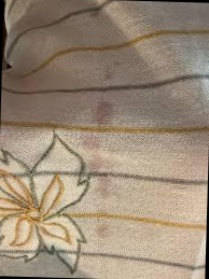wine: (77, 132, 114, 168), (87, 178, 118, 212), (88, 99, 115, 126), (94, 60, 120, 85), (88, 216, 111, 242)
